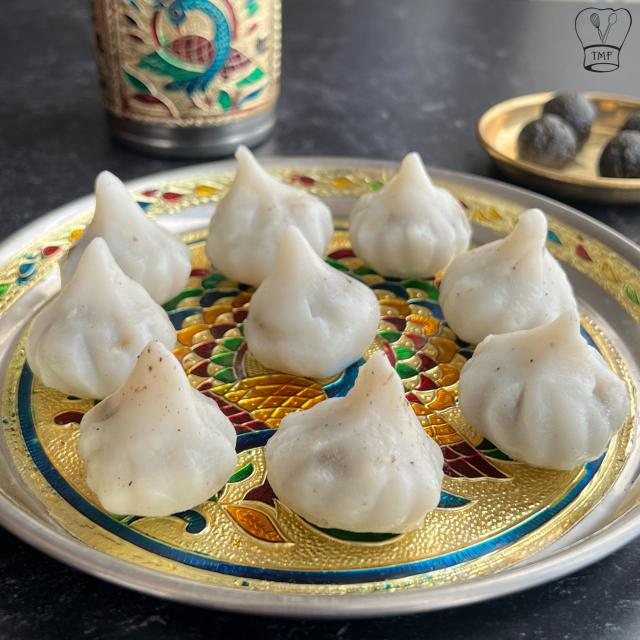poorna kolukattai: (36, 125, 616, 507)
